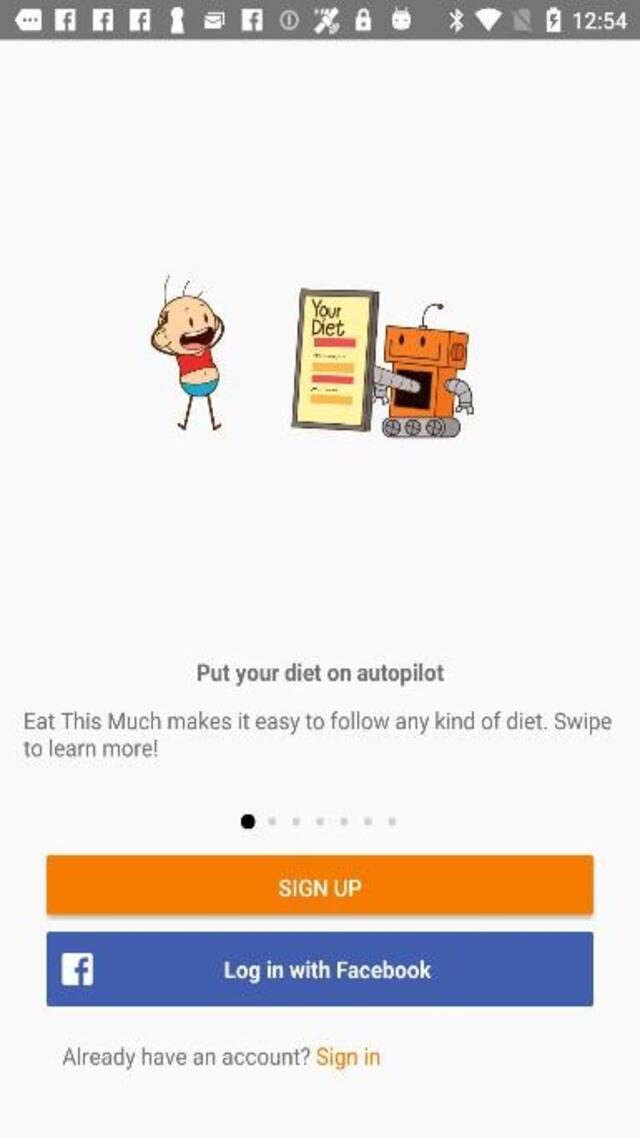Icon: (60, 952, 94, 985)
Image: (150, 274, 474, 437)
Text: (19, 708, 616, 736), (222, 957, 437, 985), (198, 662, 444, 686), (62, 1047, 313, 1070), (17, 738, 165, 760), (269, 874, 368, 901)
TextButton: (45, 932, 592, 1006), (45, 854, 592, 914)
